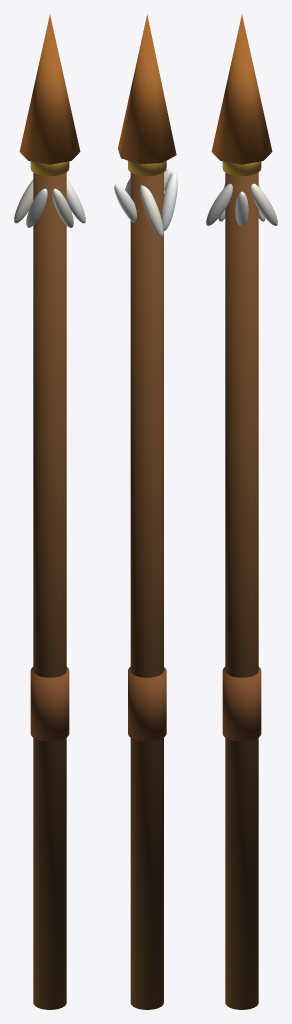
File: lanza_plumas.glb
3 views of the same model, side by side, from view 1: azimuth 90°, elevation 25°; view 2: azimuth 210°, elevation 25°; view 3: azimuth 270°, elevation 25° (orthographic).
Visible parts, largest first — view 1: lanza_plumas_fijo; view 2: lanza_plumas_fijo; view 3: lanza_plumas_fijo.
Part boxes in pixels (bbox=[...]): lanza_plumas_fijo: bbox=[14, 15, 85, 1009]; lanza_plumas_fijo: bbox=[114, 14, 177, 1009]; lanza_plumas_fijo: bbox=[206, 15, 277, 1009].
Size of the model in its own units: 0.2465 by 3.95 by 0.2591.
Materials: 2 (2 with a texture image).
